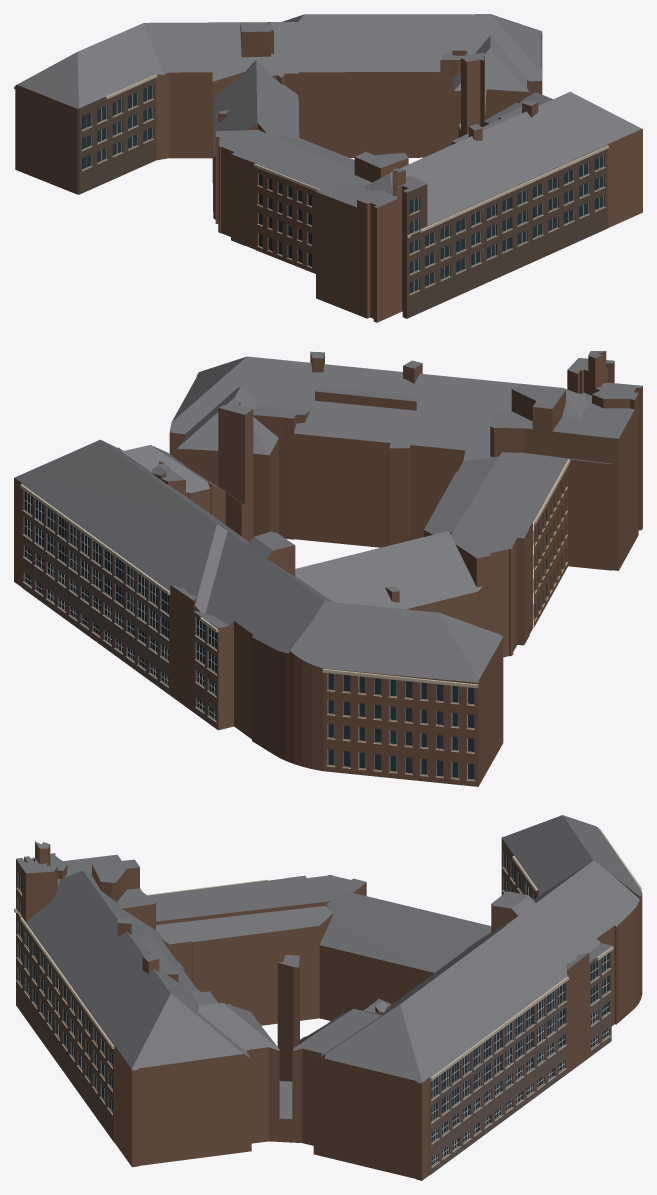
Rendered from recipe-large-nieuwe-achtergracht-253754.glb.
3 renders of one model, top to bottom at view 1: azimuth 30°, elevation 25°; view 2: azimuth 150°, elevation 25°; view 3: azimuth 270°, elevation 25°, orthographic. The views are drawn at different scales.
Visible parts, largest first — view 1: nieuwe-achtergracht-253754; view 2: nieuwe-achtergracht-253754; view 3: nieuwe-achtergracht-253754.
Part boxes in pixels (bbox=[...]): nieuwe-achtergracht-253754: bbox=[14, 14, 642, 322]; nieuwe-achtergracht-253754: bbox=[14, 351, 642, 786]; nieuwe-achtergracht-253754: bbox=[14, 815, 642, 1180].
Bounding box in the file's own units: 84.04 × 24.97 × 87.32.
